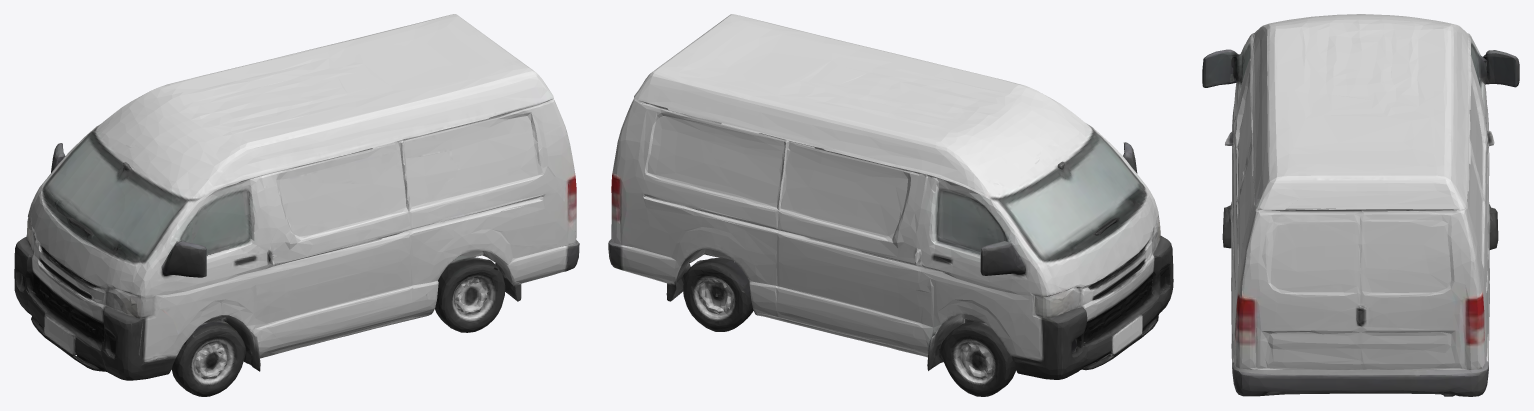
File: car_van.glb
3 renders of one model, left to right at view 1: azimuth 30°, elevation 25°; view 2: azimuth 150°, elevation 25°; view 3: azimuth 270°, elevation 25°, orthographic. The views are drawn at different scales.
Parts seen in each view (by area): view 1: geometry_0; view 2: geometry_0; view 3: geometry_0.
Boxes of the visible parts, box(x1,y1,x2,y2) form: geometry_0: box(14, 14, 579, 396); geometry_0: box(608, 14, 1173, 396); geometry_0: box(1202, 14, 1519, 396).
Size of the model in its own units: 0.9989 by 0.4716 by 0.5439.
1 material, 1 textured.
